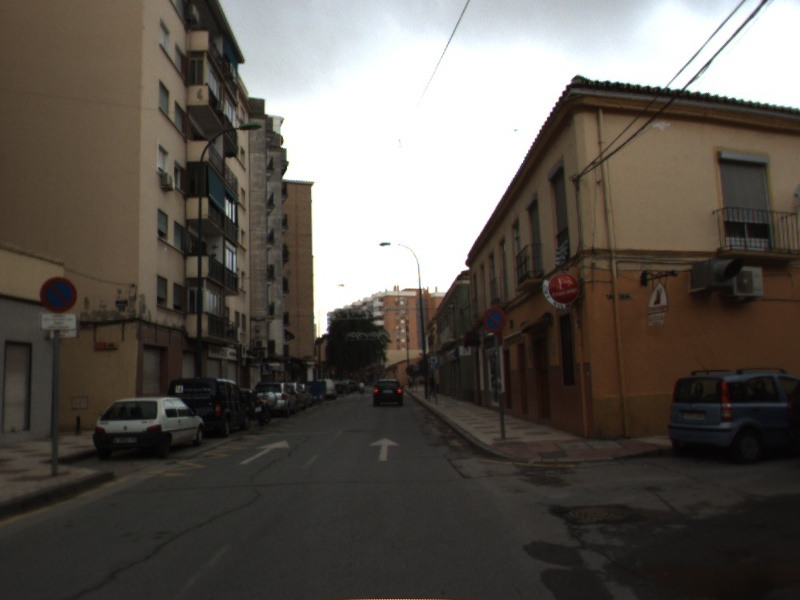STRAIGHT: (235, 437, 292, 467), (366, 435, 403, 462)
